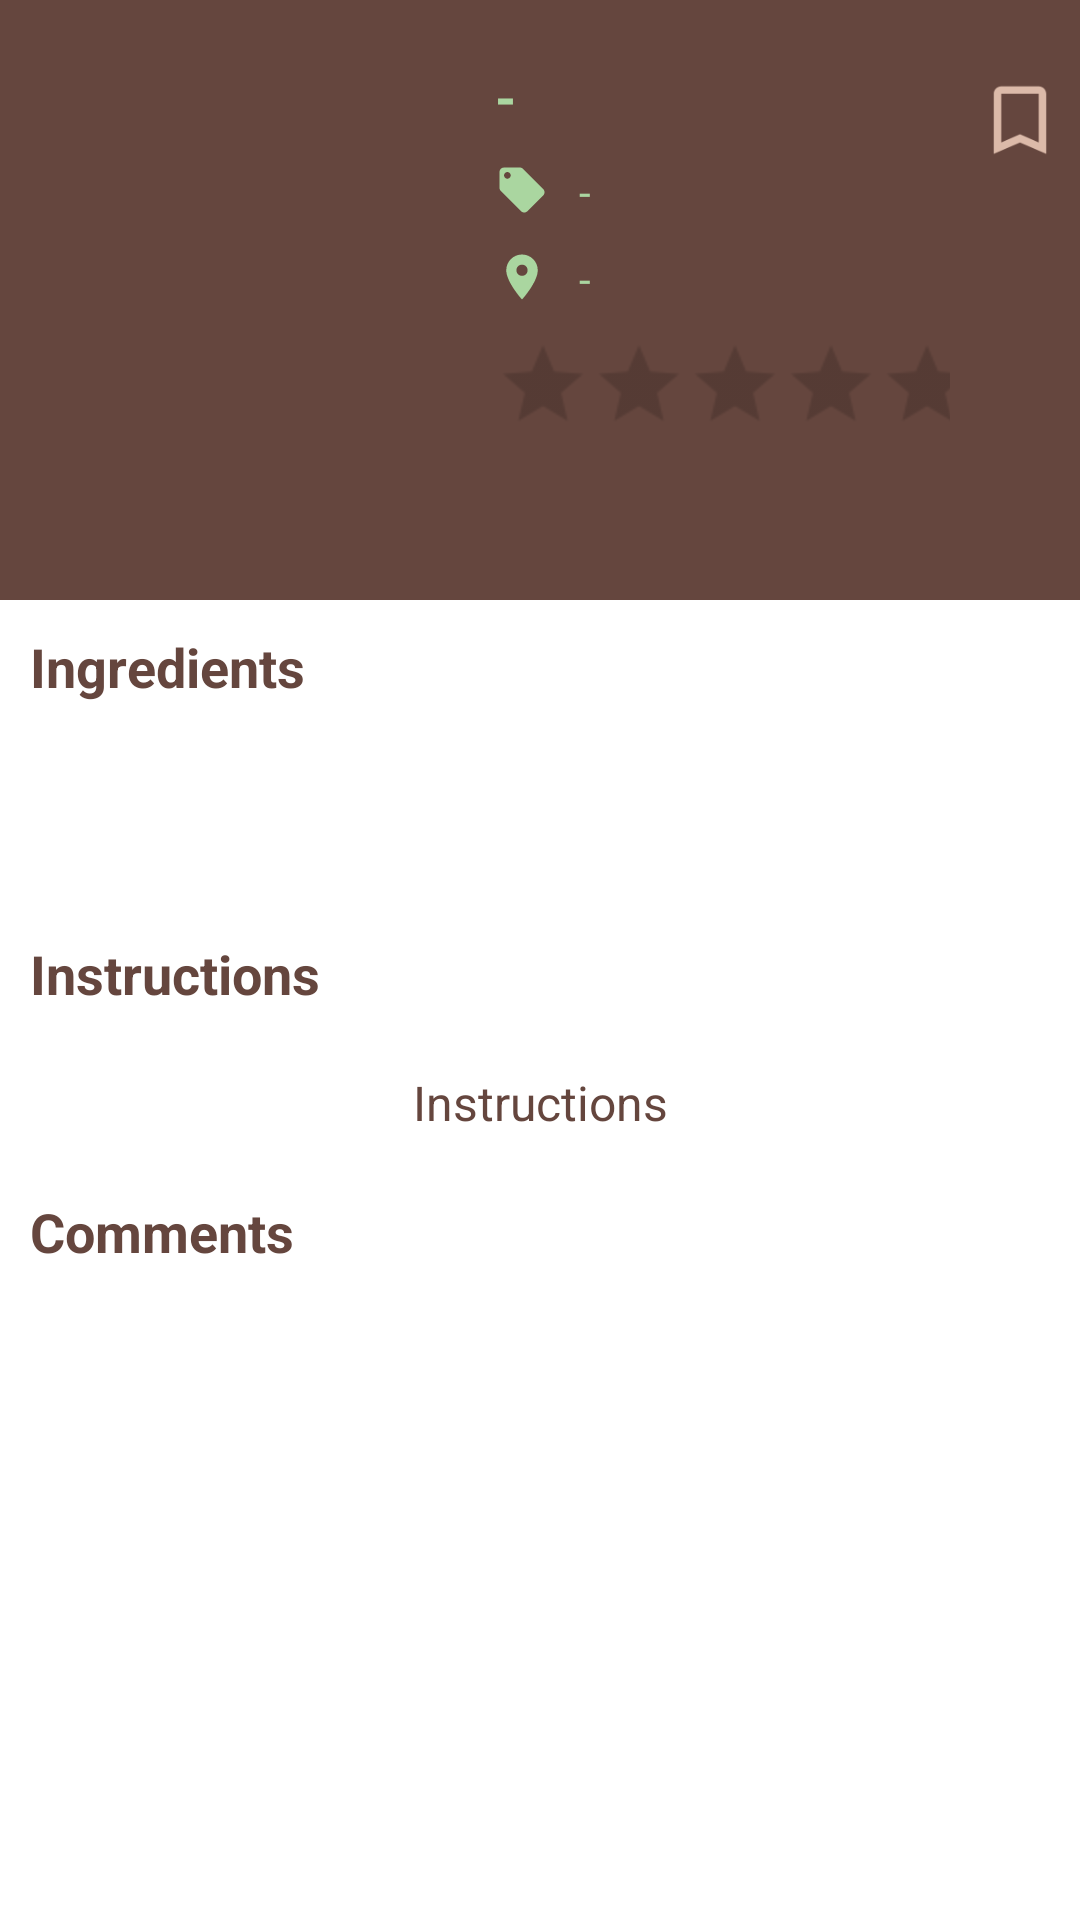

Locate icon controls on the screen. Image size 1080x1920, boxes as (x1, y1, x2, y2).
bookmark: (993, 86, 1047, 154)
place secondary: (506, 254, 538, 299)
tag secondary: (499, 167, 545, 213)
